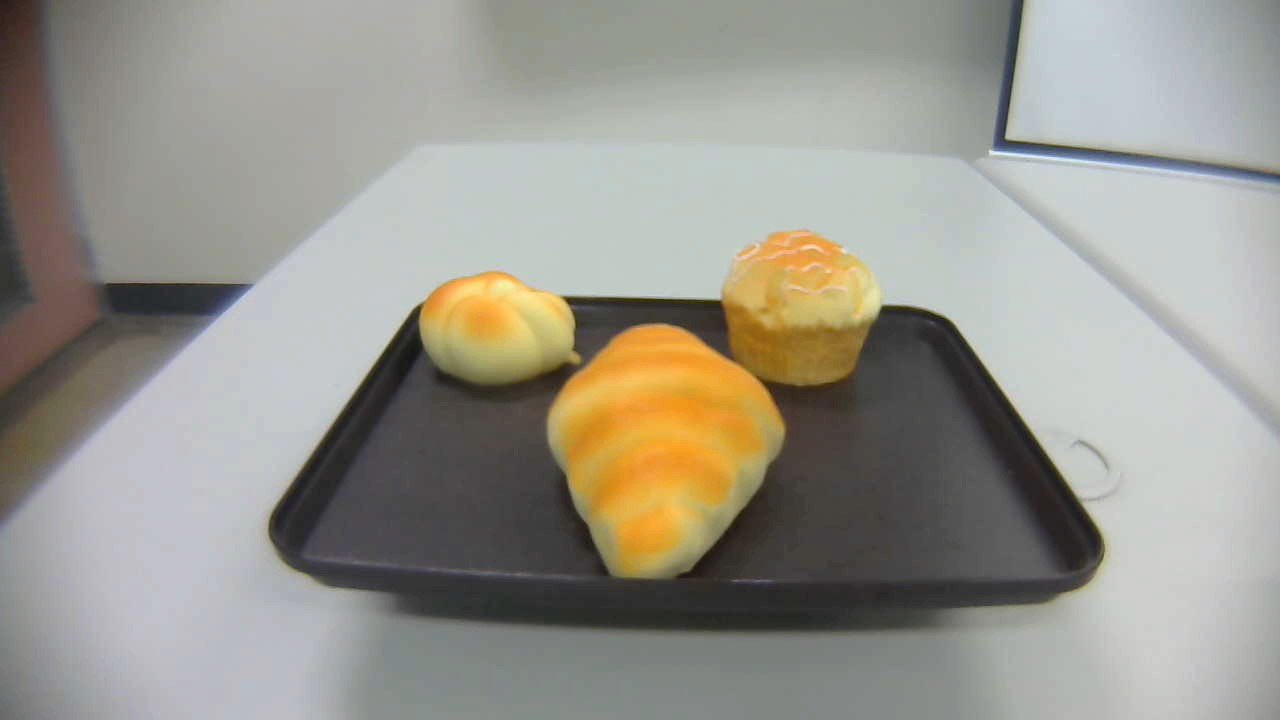croissant: (548, 322, 787, 582)
cupcake: (721, 230, 881, 388)
twist bread: (418, 269, 584, 386)
